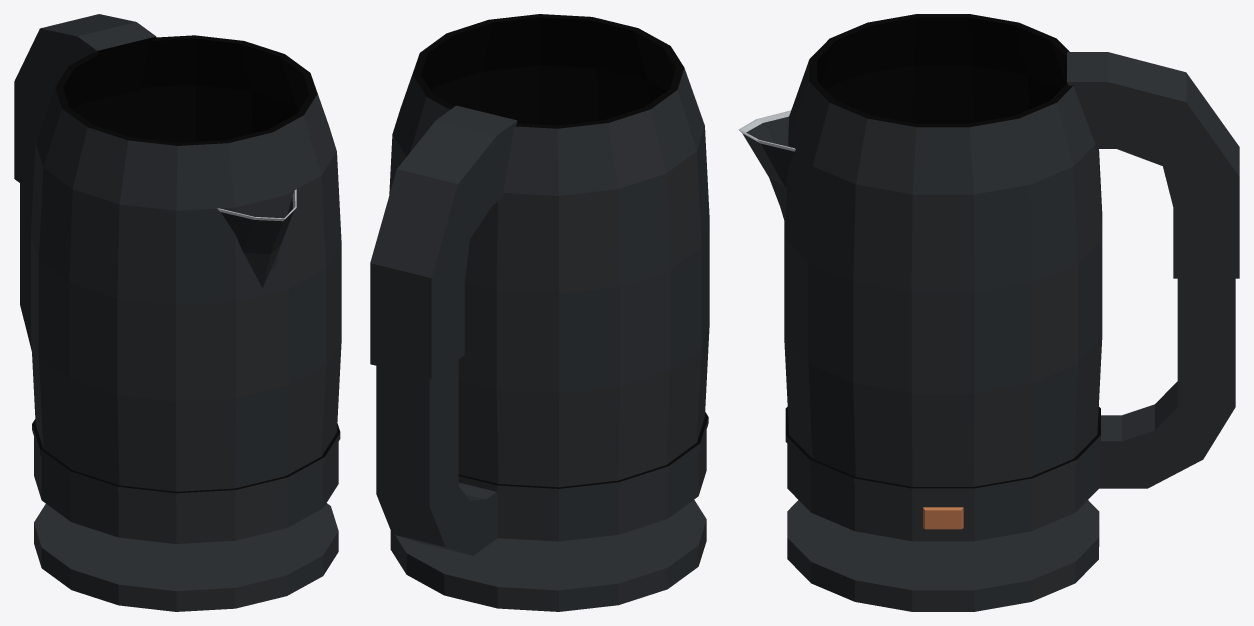
The model's file is kettle_01_E.gltf.
3 views of the same model, side by side, from view 1: azimuth 30°, elevation 25°; view 2: azimuth 150°, elevation 25°; view 3: azimuth 270°, elevation 25° (orthographic). The views are drawn at different scales.
Visible parts, largest first — view 1: kettle_01_E, Electrickettle_01_E; view 2: kettle_01_E, Electrickettle_01_E; view 3: kettle_01_E, Electrickettle_01_E.
Boxes of the visible parts, x1,y1,x2,y2 form: kettle_01_E: (14,14,341,543); Electrickettle_01_E: (34,503,338,611); kettle_01_E: (370,14,709,555); Electrickettle_01_E: (390,500,706,611); kettle_01_E: (738,14,1239,541); Electrickettle_01_E: (787,500,1099,611).
Size of the model in its own units: 0.1594 by 0.2644 by 0.2503.
Materials: 1 (1 with a texture image).
